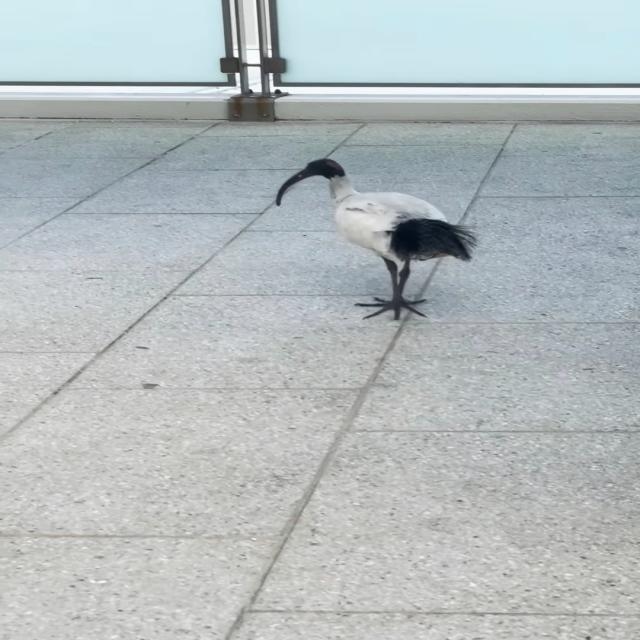Birds-Ibis: (268, 155, 484, 325)
